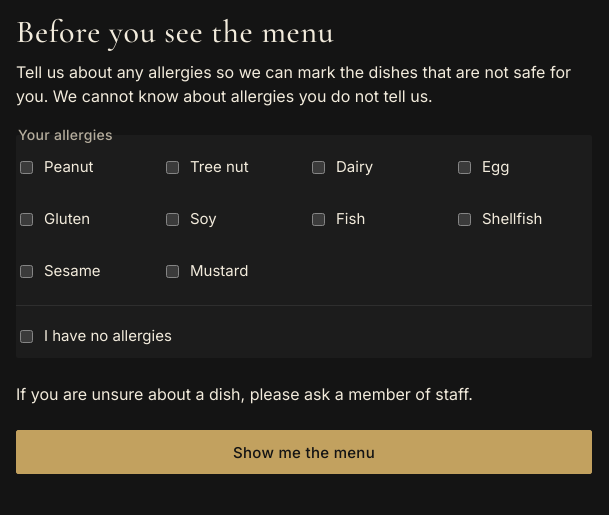
Test: AllergyForm component › 8. error clears on toggling any checkbox
What coordinates should you click on to do the following:
click the button "Show me the menu"
I would click on:
 (304, 452)
Its box is [16,430,592,474].
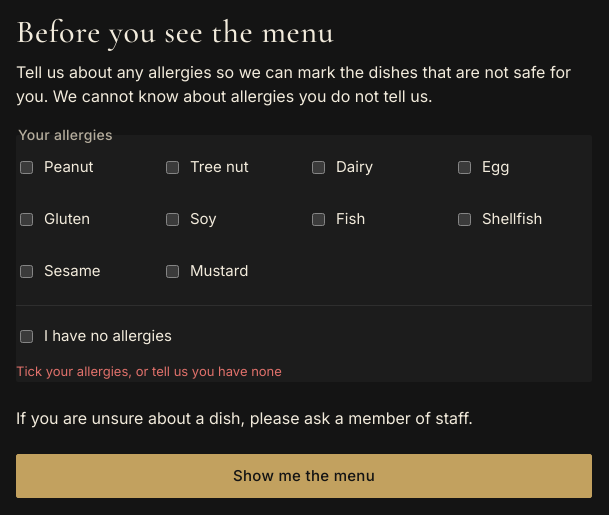
Expected: the text "Tick your allergies, or tell us you have none" is shown, [16,363,282,379]
What coordinates should you click on to do the following:
click the checkbox labelled "Gluten"
I would click on:
 (26, 219)
Its box is [20,212,33,226].
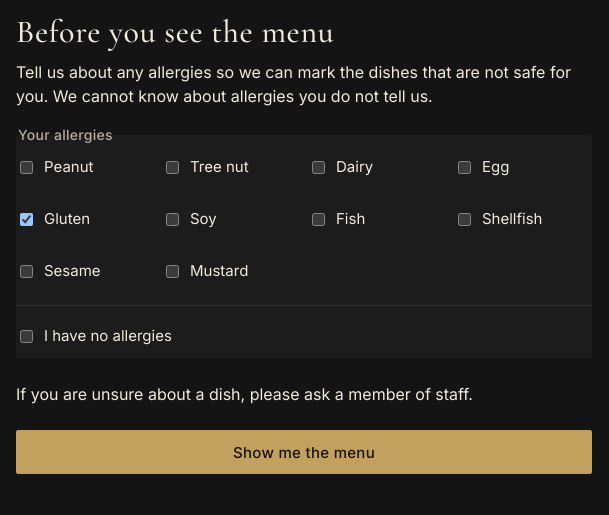
Expected: the text "Tick your allergies, or tell us you have none" is gone
